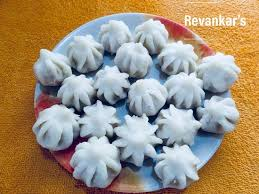modak: (150, 140, 207, 191), (26, 105, 86, 152), (116, 111, 162, 167), (77, 139, 122, 189), (57, 28, 106, 71), (156, 102, 203, 146), (23, 45, 76, 82), (195, 98, 249, 134), (124, 79, 172, 118), (88, 63, 135, 102), (202, 55, 244, 93), (128, 17, 173, 52), (160, 45, 206, 79), (166, 73, 207, 110), (113, 43, 152, 79), (81, 104, 116, 137), (101, 23, 131, 52)
